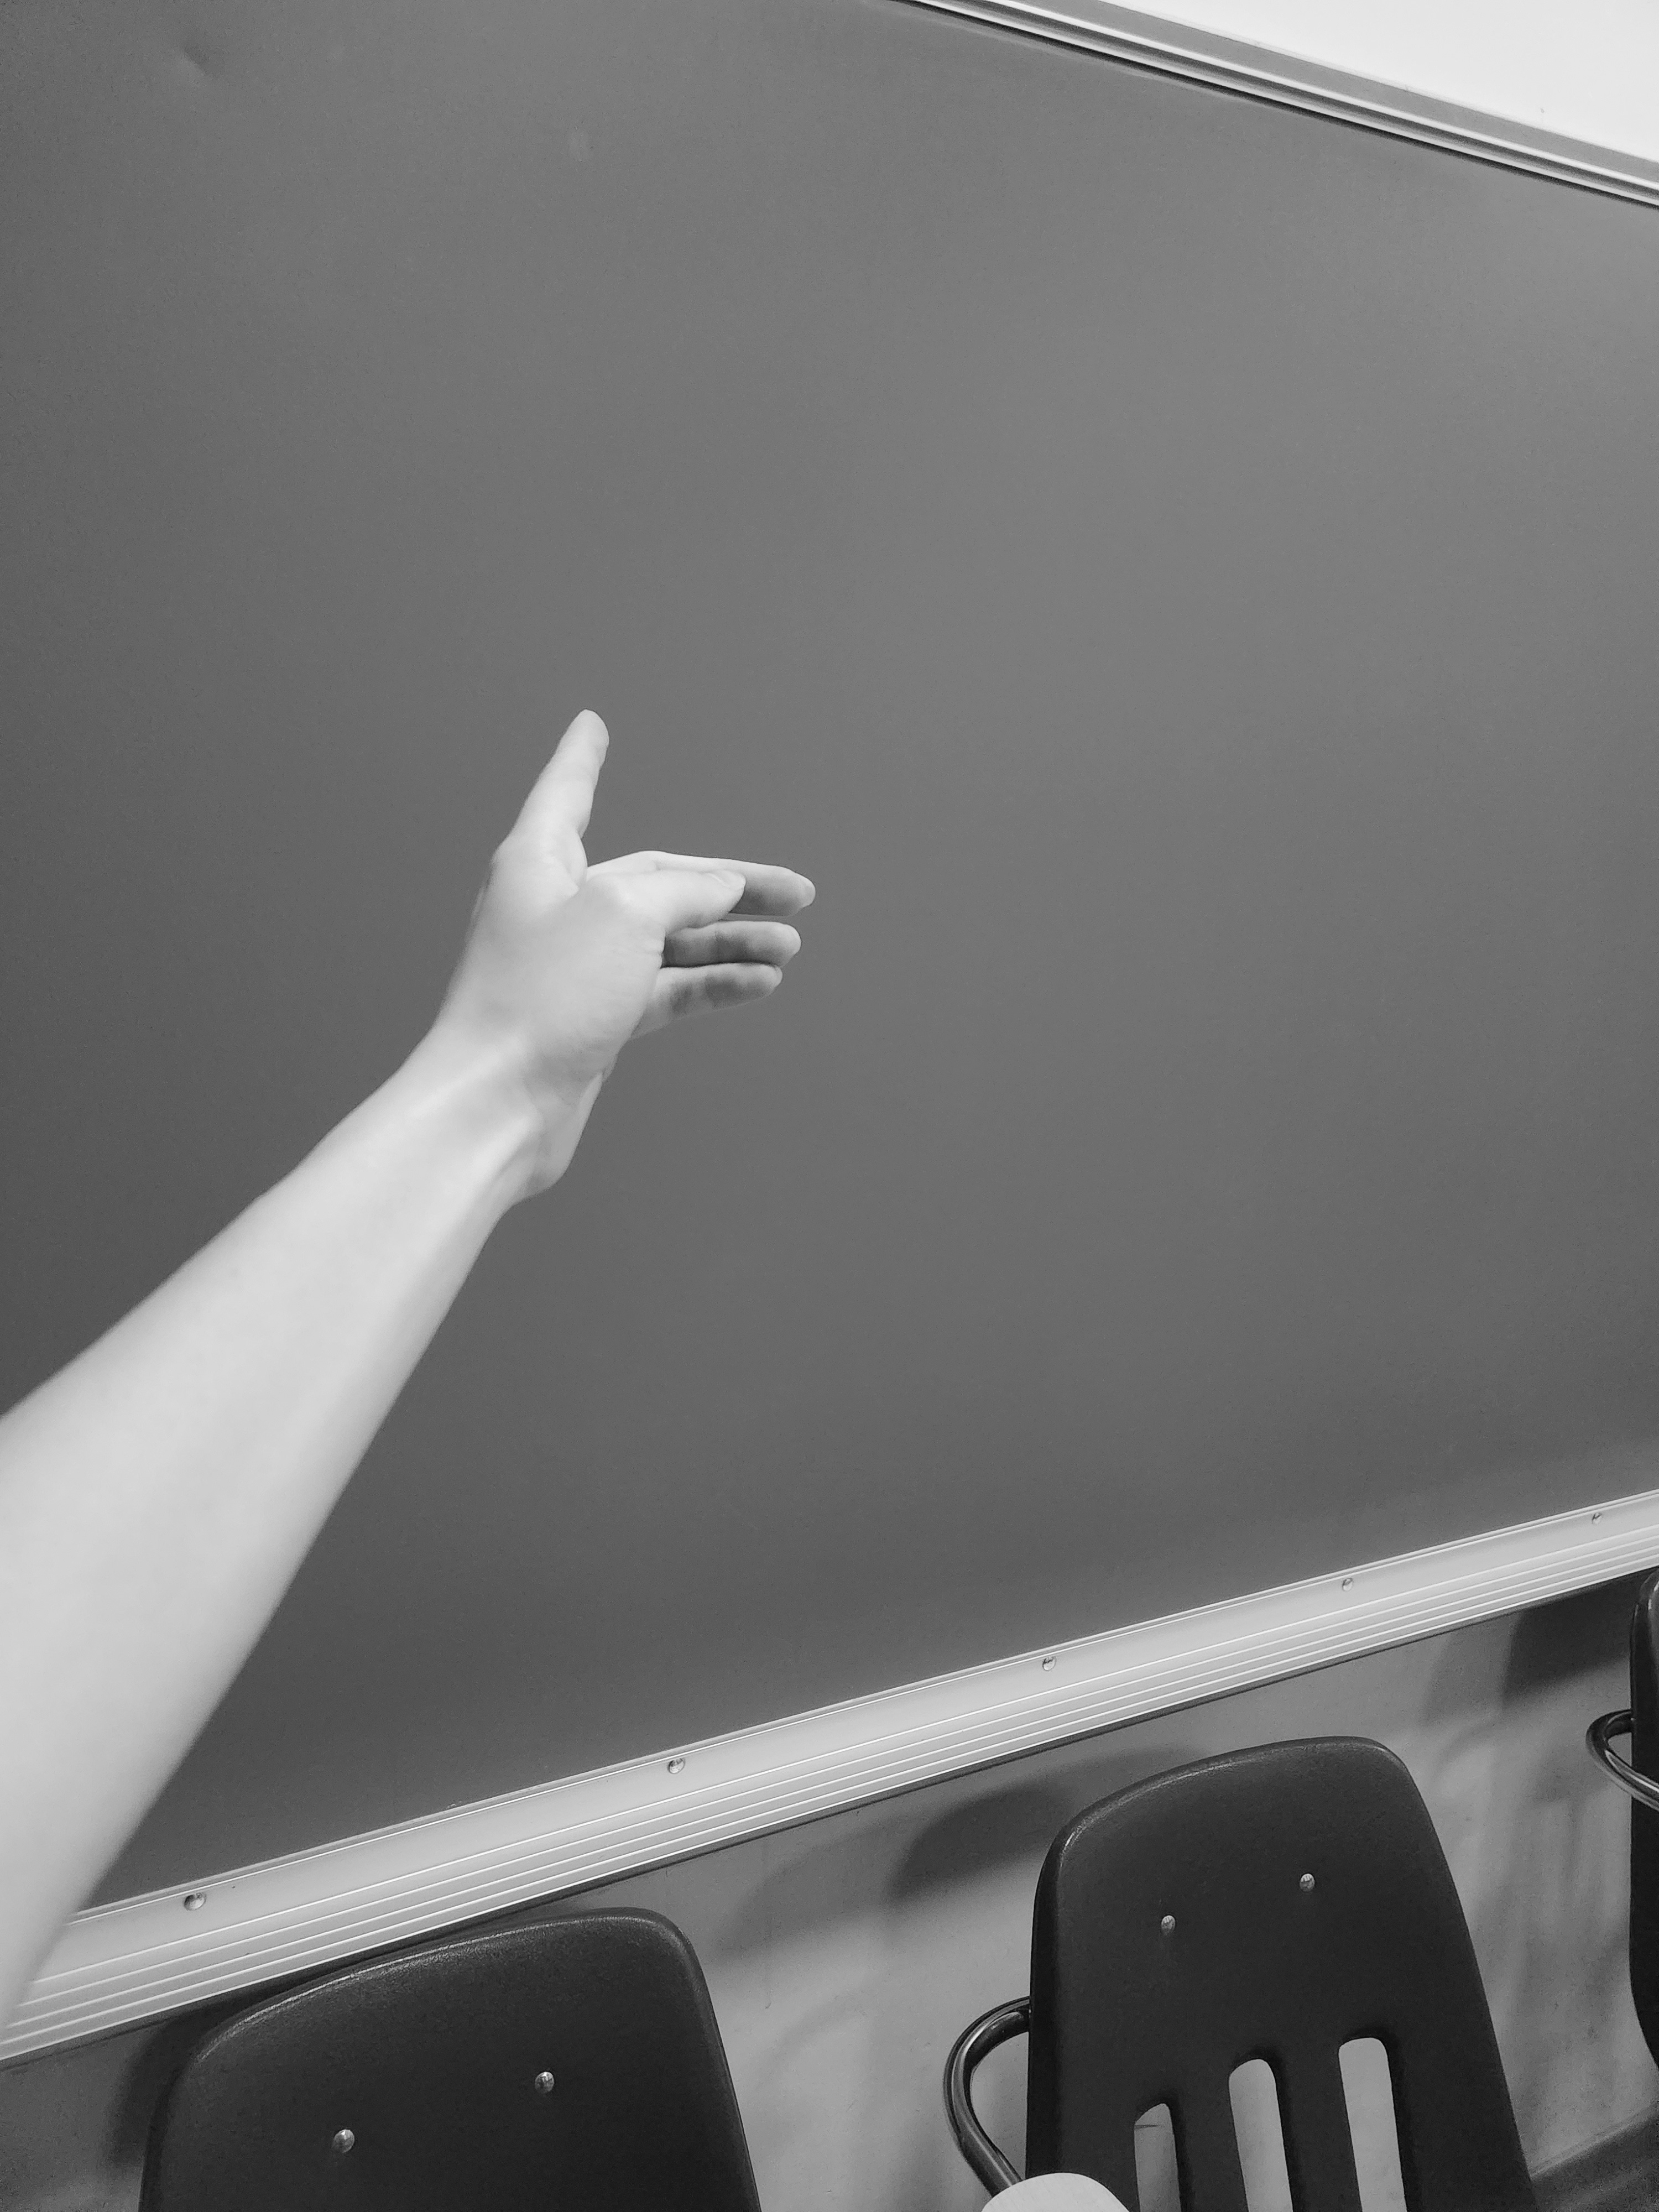pointing_gesture: (460, 697, 838, 1193)
